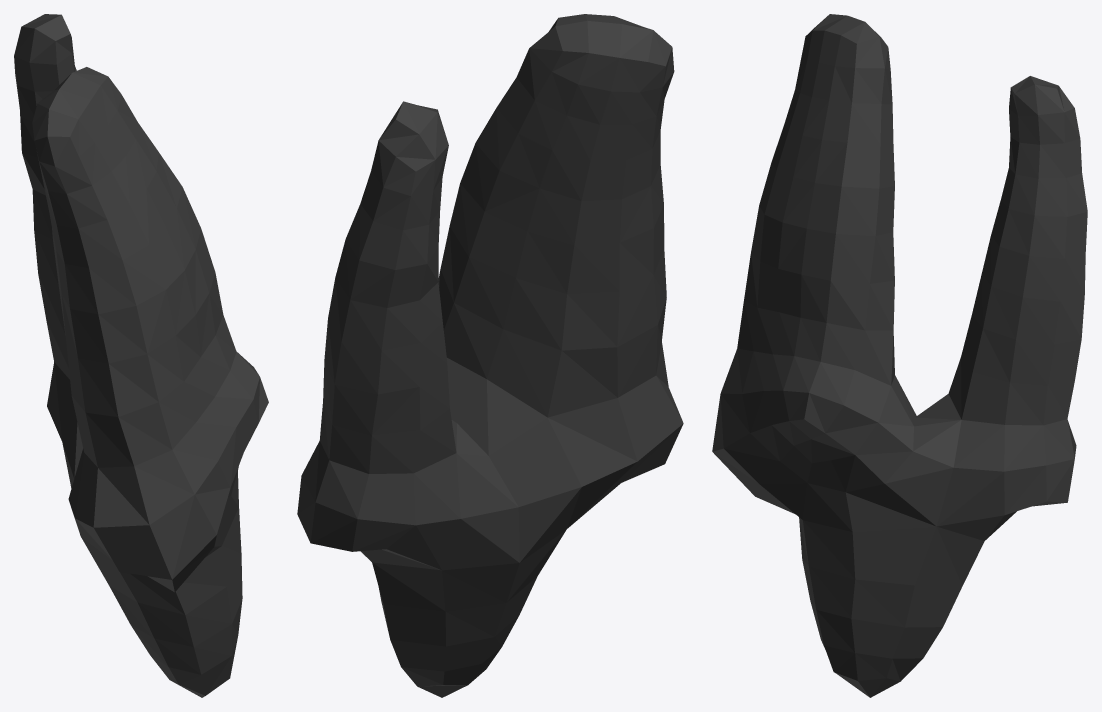
3 renders of one model, left to right at view 1: azimuth 30°, elevation 25°; view 2: azimuth 150°, elevation 25°; view 3: azimuth 270°, elevation 25°, orthographic. The views are drawn at different scales.
Parts seen in each view (by area): view 1: world; view 2: world; view 3: world.
Part boxes in pixels (left/top/right/bottom): world: left=14, top=14, right=268, bottom=697; world: left=297, top=14, right=683, bottom=697; world: left=712, top=14, right=1087, bottom=697.
Bounding box in the file's own units: 0.0389 × 0.1049 × 0.058.
1 material, 1 textured.
